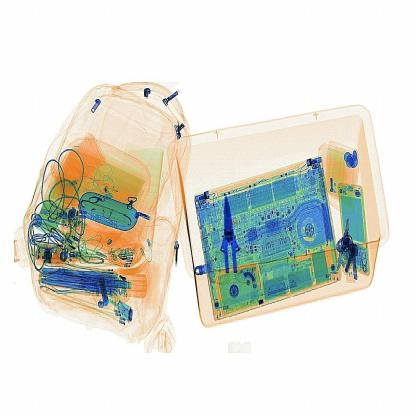gun: (203, 186, 256, 288)
